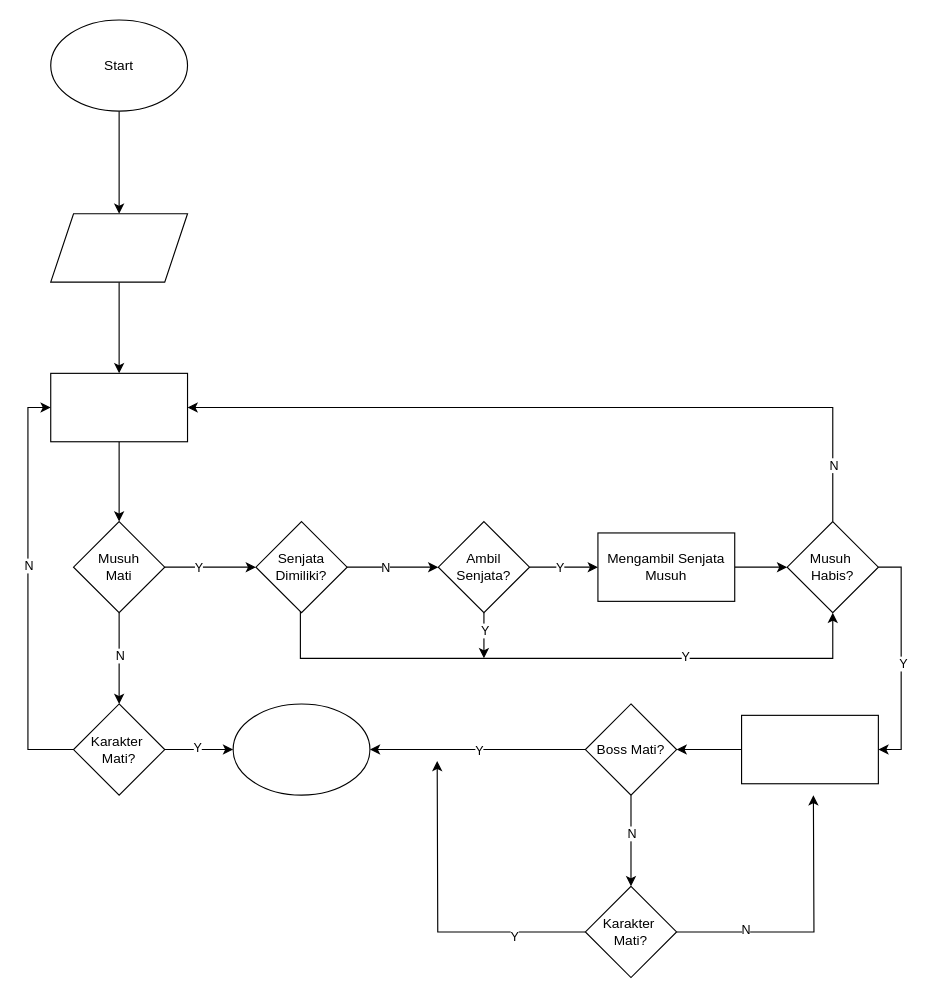
Image size: 930x998. Some labels were removed from this diagram. Each missing label, with the box of its shape:
END: (232, 703, 370, 795)
Inisialisasi Karakter: (50, 213, 188, 282)
Pertarungan Boss: (740, 714, 878, 784)
Stages Pertarungan: (50, 372, 188, 442)
